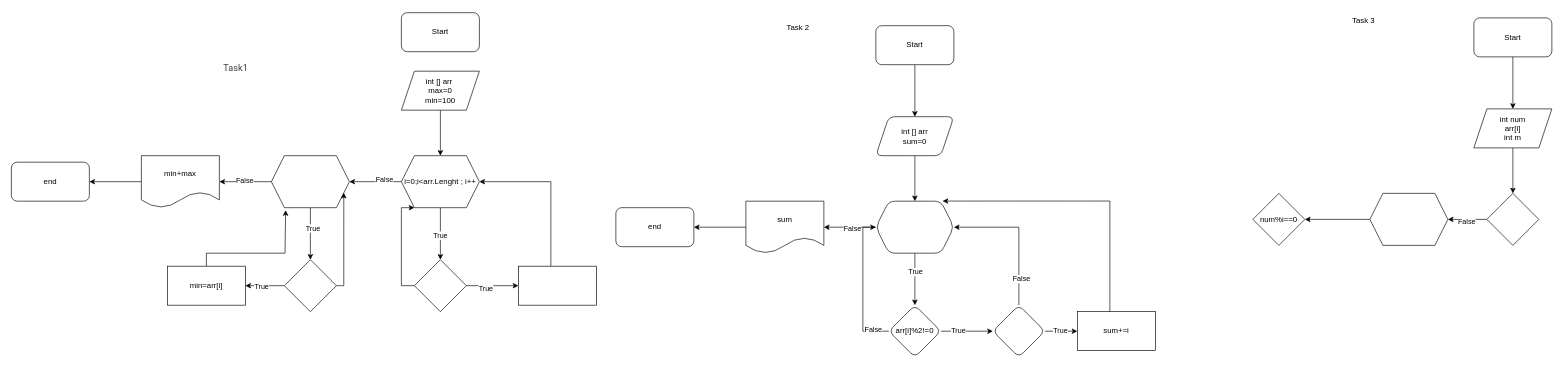
Some shapes in this 1563 by 369 pixel diagram are drawn without their labels. Each missing label, with the centre of its shape:
arr[i]%3==0: (x=1018, y=331)
arr[i]<min: (x=310, y=285)
arr[i]>max: (x=440, y=285)
i=0;i<arr.Lenght;i++: (x=914, y=227)
i=0;i>arr.Lenght ;i++: (x=310, y=181)
i=2; i*i<=num;i++: (x=1408, y=219)
max=arr[i]: (x=557, y=285)
num<=1: (x=1512, y=219)
